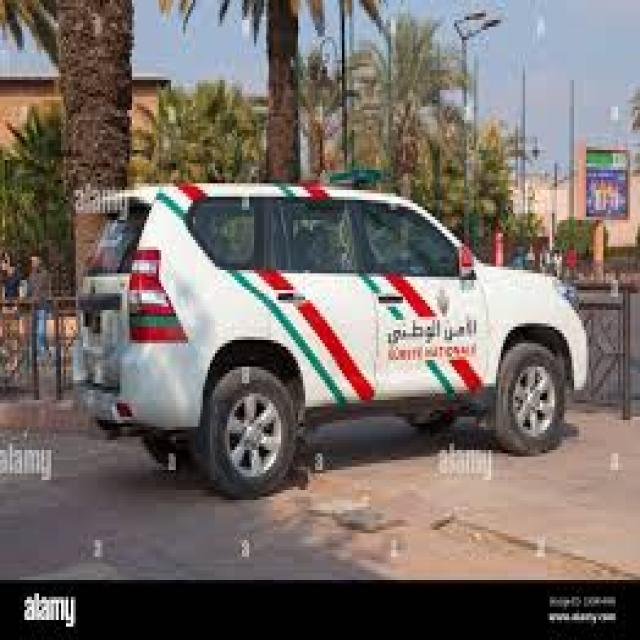Police car: (72, 158, 594, 496)
